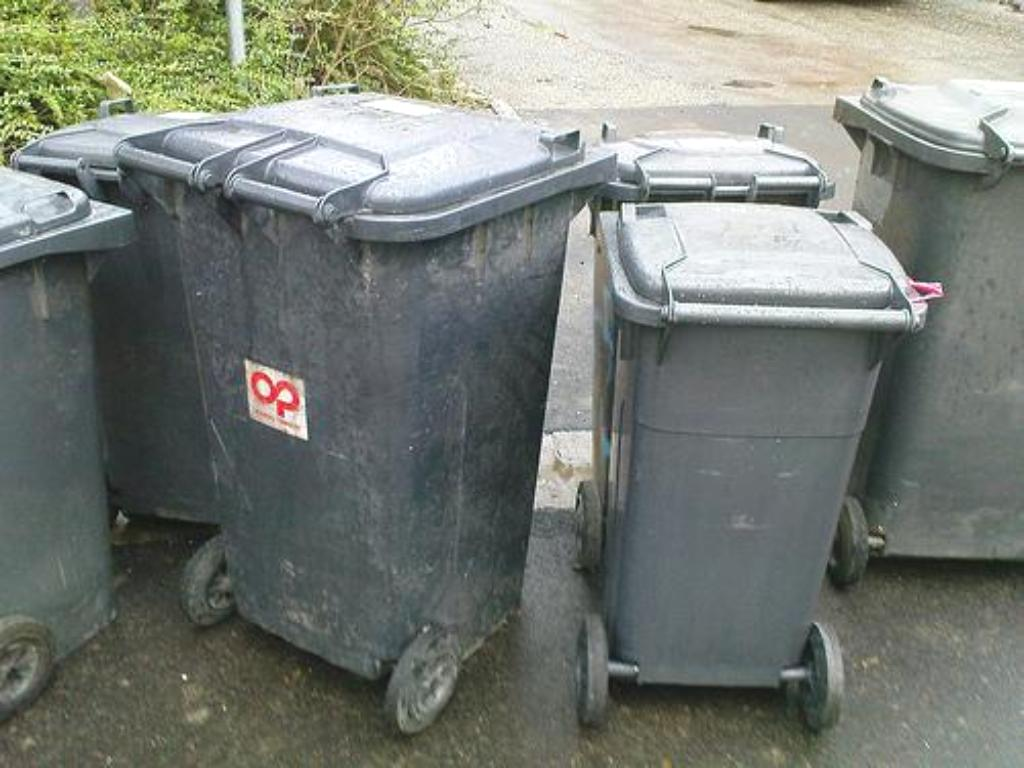dustbin: (134, 79, 608, 732), (586, 194, 939, 751), (830, 56, 1024, 577)
